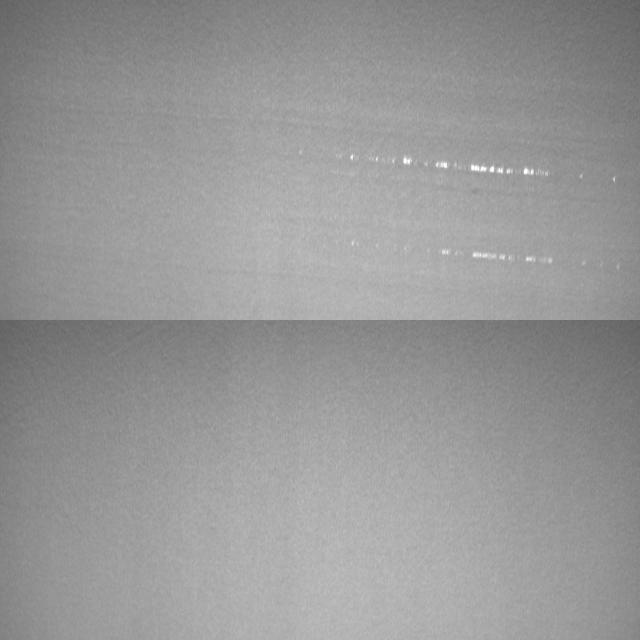Warp_Weft: (296, 140, 618, 183), (349, 236, 621, 274)
